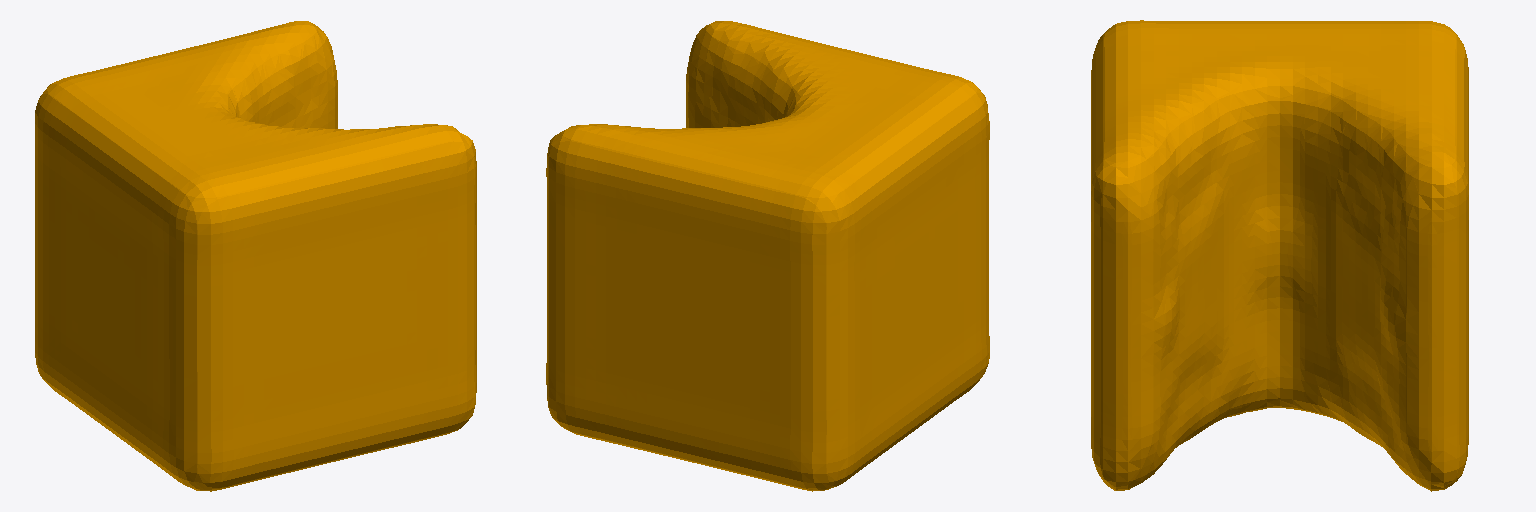
The robot description file, URDF, robot "object":
<?xml version="1.0"?>
<robot name="object">
  <link name="object">
    <visual>
      <origin xyz="0 0 0"/>
      <geometry>
        <mesh filename="meshes/subset_100_scaled/egad_N03_0_s.obj" scale=".03 .03 .03"/>
      </geometry>
    </visual>
    <collision>
  <origin xyz="0 0 0"/>
  <geometry>
    <mesh filename="meshes/subset_100_scaled/egad_N03_0_s_0decompose.obj" scale=".03 .03 .03"/>
<!--          <mesh filename="meshes/custom/obj0_ball.obj" scale=".05 .05 .05"/>-->
  </geometry>
</collision><collision>
  <origin xyz="0 0 0"/>
  <geometry>
    <mesh filename="meshes/subset_100_scaled/egad_N03_0_s_1decompose.obj" scale=".03 .03 .03"/>
<!--          <mesh filename="meshes/custom/obj0_ball.obj" scale=".05 .05 .05"/>-->
  </geometry>
</collision>

<!--    <collision>-->
<!--      <origin xyz="0 0 0"/>-->
<!--      <geometry>-->
<!--        <mesh filename="meshes/subset_100_scaled/egad_N03_0_s.obj" scale=".03 .03 .03"/>-->
<!--&lt;!&ndash;          <mesh filename="meshes/custom/obj0_ball.obj" scale=".05 .05 .05"/>&ndash;&gt;-->
<!--      </geometry>-->
<!--    </collision>-->
    <inertial>
      <density value="1000.0"/>
    </inertial>
  </link>
</robot>

--- Facts derived from the render (not from the file) ---
The picture shows the robot from 3 angles, left to right: view 1: azimuth 30°, elevation 25°; view 2: azimuth 150°, elevation 25°; view 3: azimuth 270°, elevation 25°; orthographic projection.
Model object with 1 links and 0 joints (none), rooted at object, posed every joint at zero.
Links seen in each view (by area): view 1: object; view 2: object; view 3: object.
Boxes of the visible links, <box> form: object: <box>35,21,476,491</box>; object: <box>546,21,989,491</box>; object: <box>1091,20,1468,491</box>.
Bounding box of the posed robot: 0.06 × 0.06 × 0.06 m (x, y, z).
Meshes: 1 distinct files referenced, 1 mesh visuals loaded (1 OBJ).
